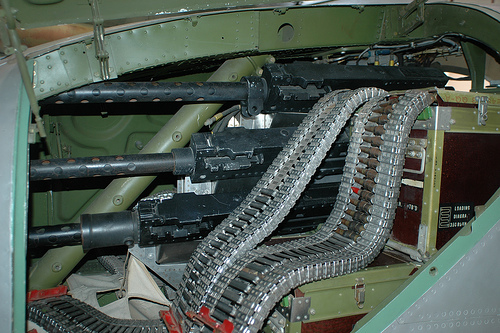rifle: (31, 23, 493, 333)
